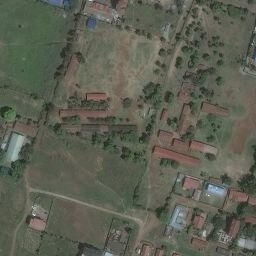tree: (1, 106, 15, 121), (156, 208, 169, 221), (236, 201, 248, 215), (120, 147, 132, 159), (76, 51, 86, 64), (122, 97, 132, 107), (53, 123, 62, 133), (206, 153, 217, 161), (175, 57, 183, 68), (158, 48, 167, 57), (44, 102, 53, 111), (165, 92, 173, 102), (215, 76, 223, 85), (223, 176, 231, 185), (206, 135, 216, 142), (185, 28, 193, 36), (159, 159, 168, 166), (171, 160, 178, 168), (186, 46, 194, 53), (146, 32, 153, 40), (203, 53, 210, 60), (160, 36, 167, 42), (135, 29, 141, 36), (216, 59, 223, 65), (209, 68, 216, 74), (182, 46, 188, 52), (210, 123, 216, 128)
